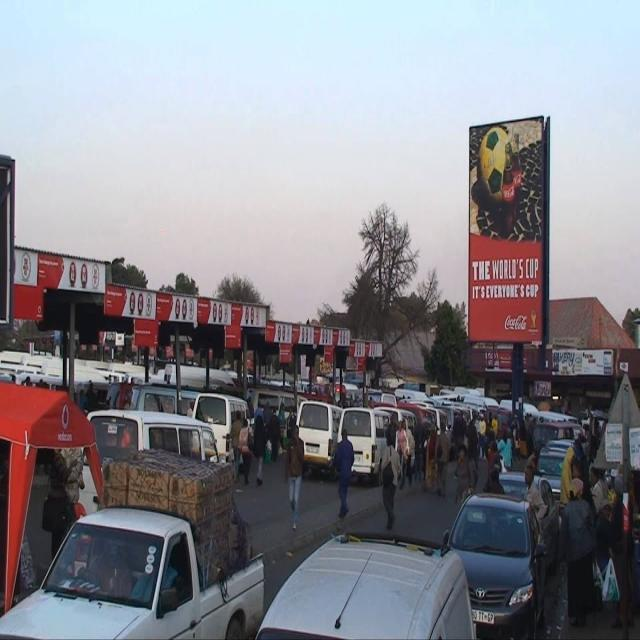MiniBus taxi: (338, 404, 380, 484), (295, 396, 335, 472)
Passenger Car: (444, 489, 548, 636)
Pedestrians: (286, 422, 306, 532), (334, 428, 356, 518), (381, 434, 401, 528)
